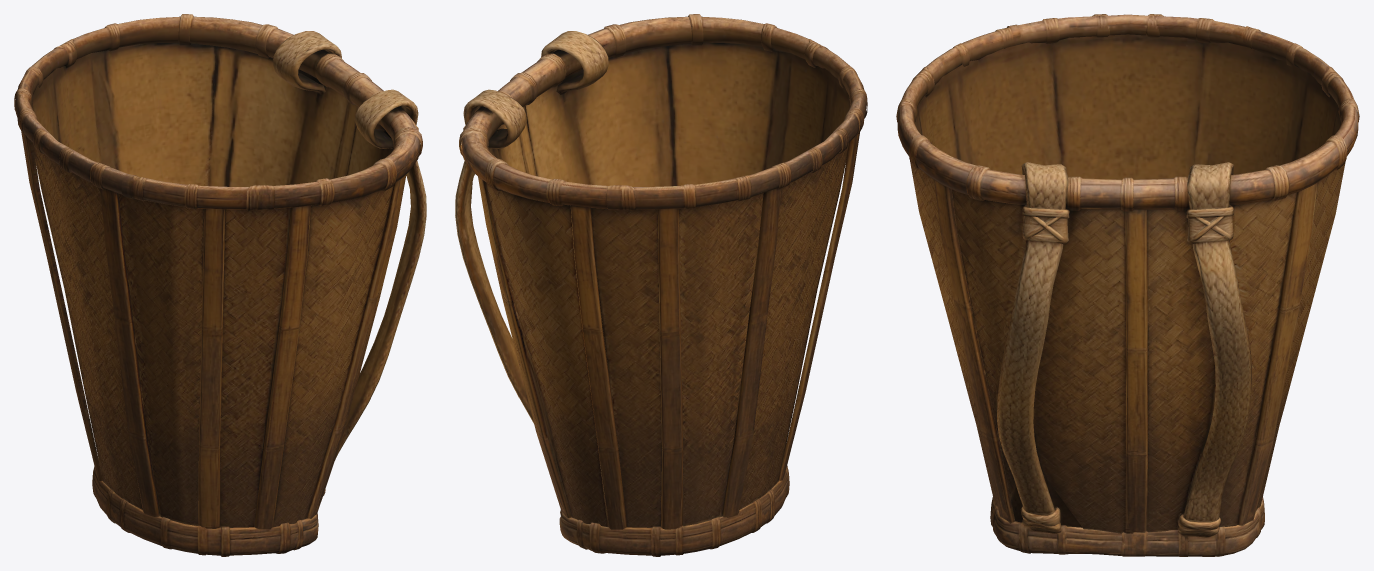
File: bamboo-backbasket.glb
3 renders of one model, left to right at view 1: azimuth 30°, elevation 25°; view 2: azimuth 150°, elevation 25°; view 3: azimuth 270°, elevation 25°, orthographic. The views are drawn at different scales.
Parts seen in each view (by area): view 1: Supplied bamboo-backbasket; view 2: Supplied bamboo-backbasket; view 3: Supplied bamboo-backbasket.
Part boxes in pixels (x1,y1,x2,y2): Supplied bamboo-backbasket: (14, 14, 426, 556); Supplied bamboo-backbasket: (455, 14, 867, 556); Supplied bamboo-backbasket: (896, 14, 1359, 556).
Size of the model in its own units: 0.8698 by 1.03 by 1.
1 material, 1 textured.
